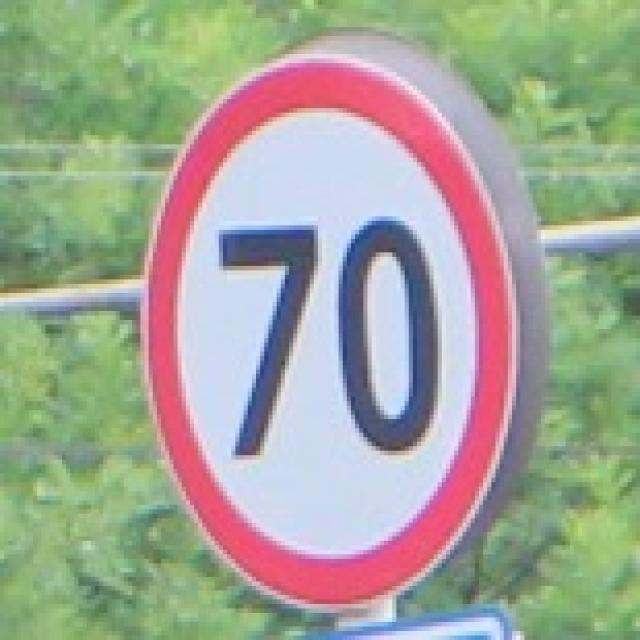Speed Limit -70-: (214, 210, 444, 476)
